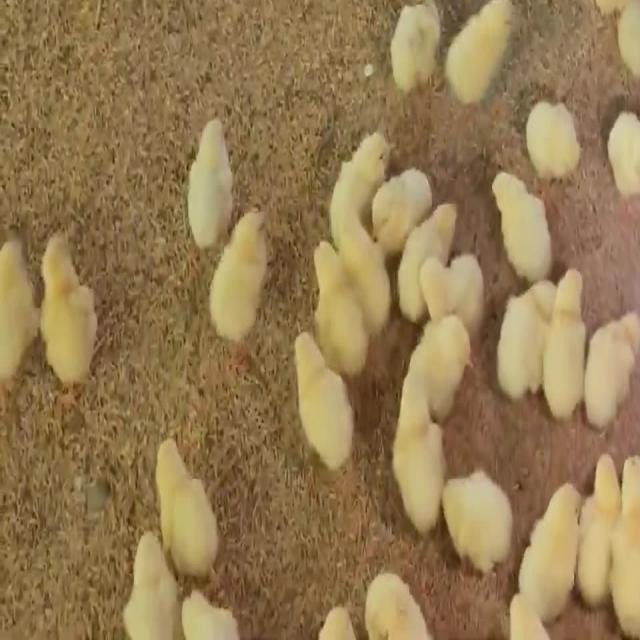poussin: (200, 208, 282, 346), (383, 373, 447, 544), (148, 428, 221, 569), (512, 469, 583, 607), (34, 235, 98, 382), (292, 331, 351, 474), (440, 458, 524, 558), (410, 307, 475, 429), (115, 525, 183, 640), (178, 110, 238, 240), (434, 5, 511, 106), (312, 229, 365, 371), (542, 268, 594, 411), (576, 444, 622, 602), (492, 280, 554, 396), (486, 165, 551, 272), (384, 202, 446, 314), (340, 217, 395, 330), (608, 449, 640, 635), (325, 131, 389, 222), (586, 304, 636, 419), (368, 160, 437, 243), (387, 0, 442, 102), (526, 96, 580, 184), (419, 254, 486, 316), (600, 110, 640, 191)
